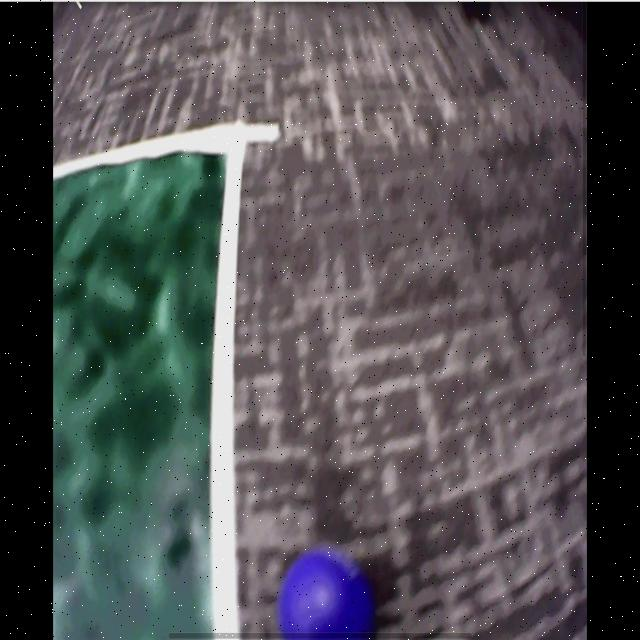ball: (280, 551, 368, 640)
